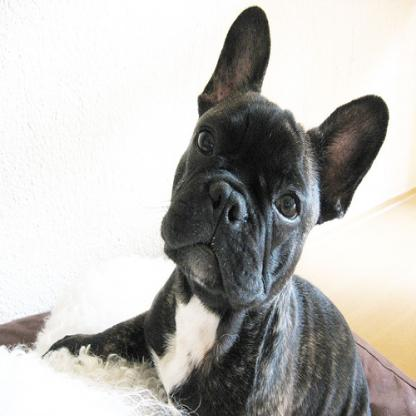French_bulldog: (38, 3, 390, 414)
